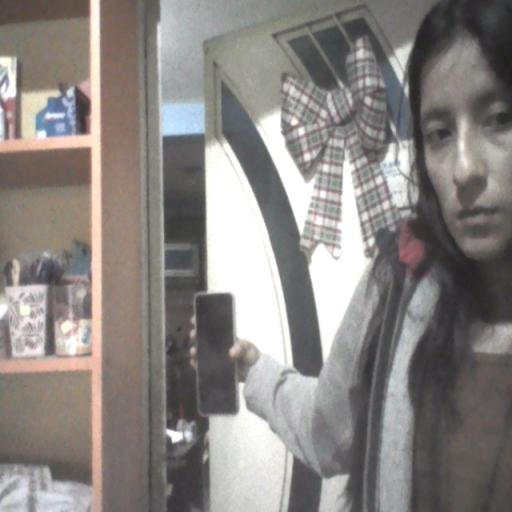phone: (192, 285, 244, 418)
